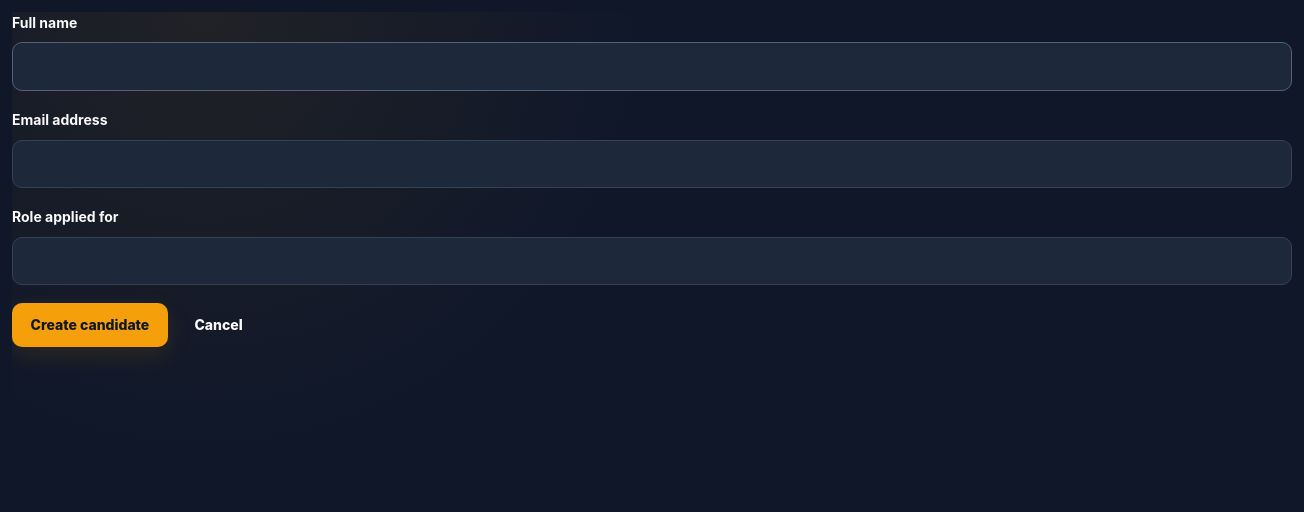
CandidateForm › maps bounded server validation errors without clearing user input
In the field labelled "Full name": (652, 67) 12,42 -> 1292,91, type "  Ada Candidate  "
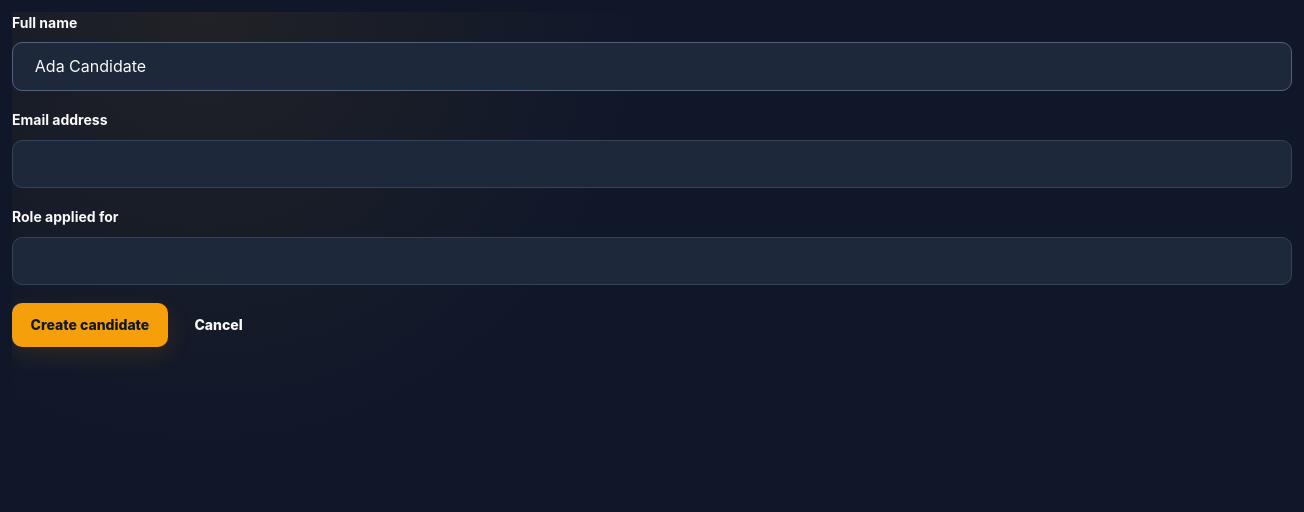
In the field labelled "Email address": (652, 164) 12,140 -> 1292,188, type "ADA@EXAMPLE.TEST"
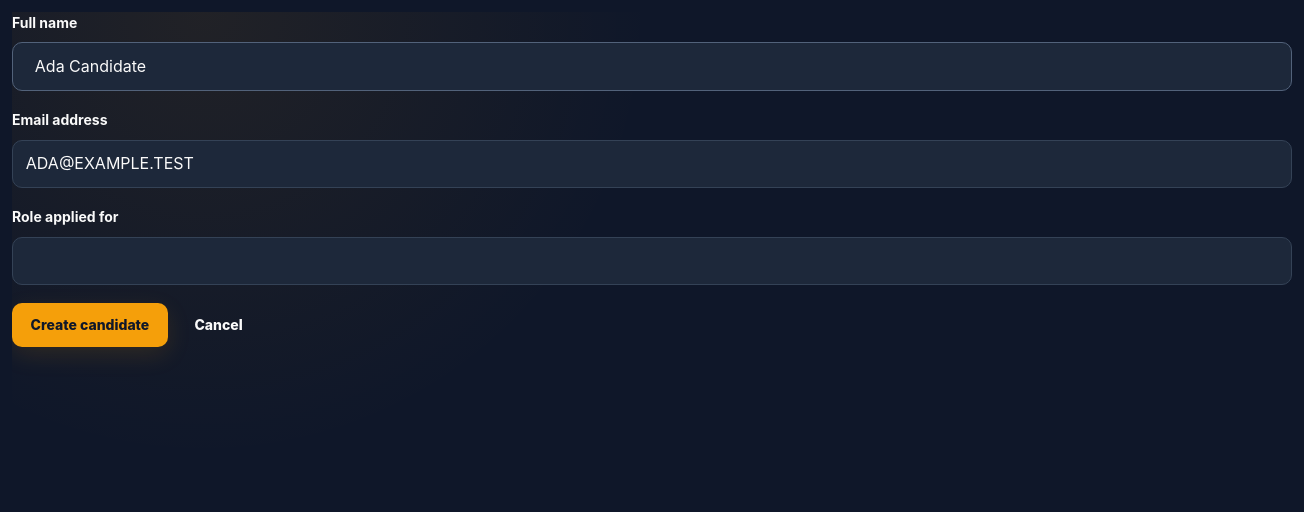
In the field labelled "Role applied for": (652, 261) 12,237 -> 1292,285, type "  Compliance Engineer  "
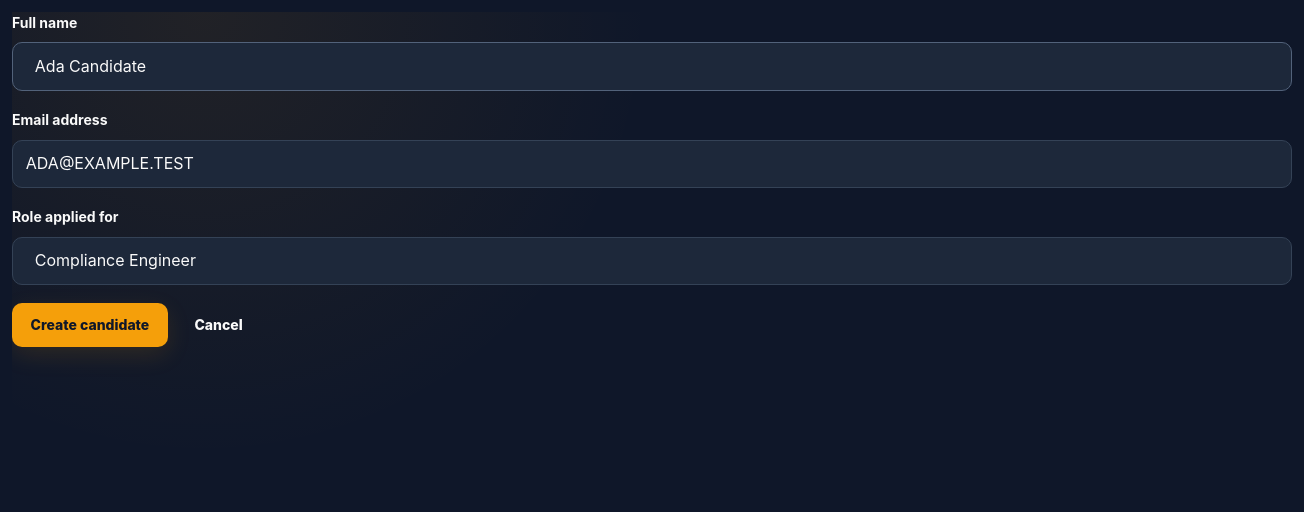
Submit the form "Create candidate"
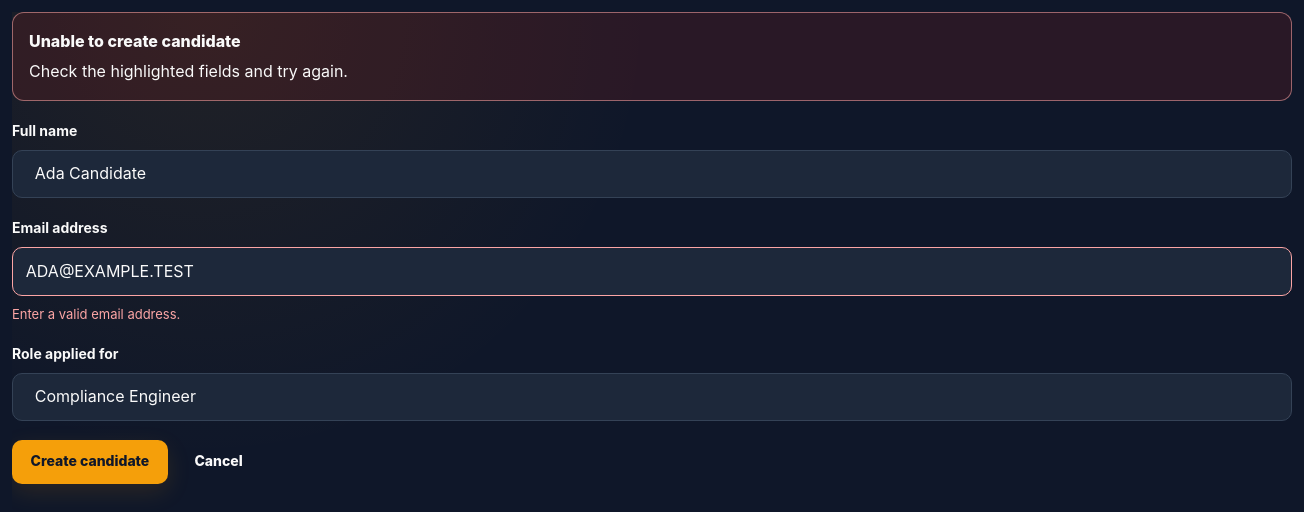
Check: the text "Enter a valid email address." is shown, box 12,306 -> 180,322
